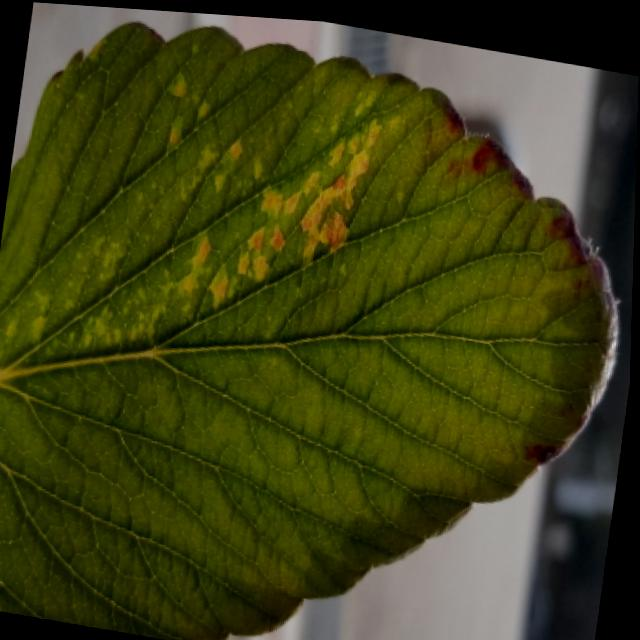Angular Leafspot: (0, 39, 410, 366)
